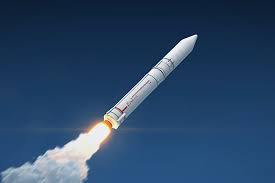ten_lua: (103, 19, 192, 138)
